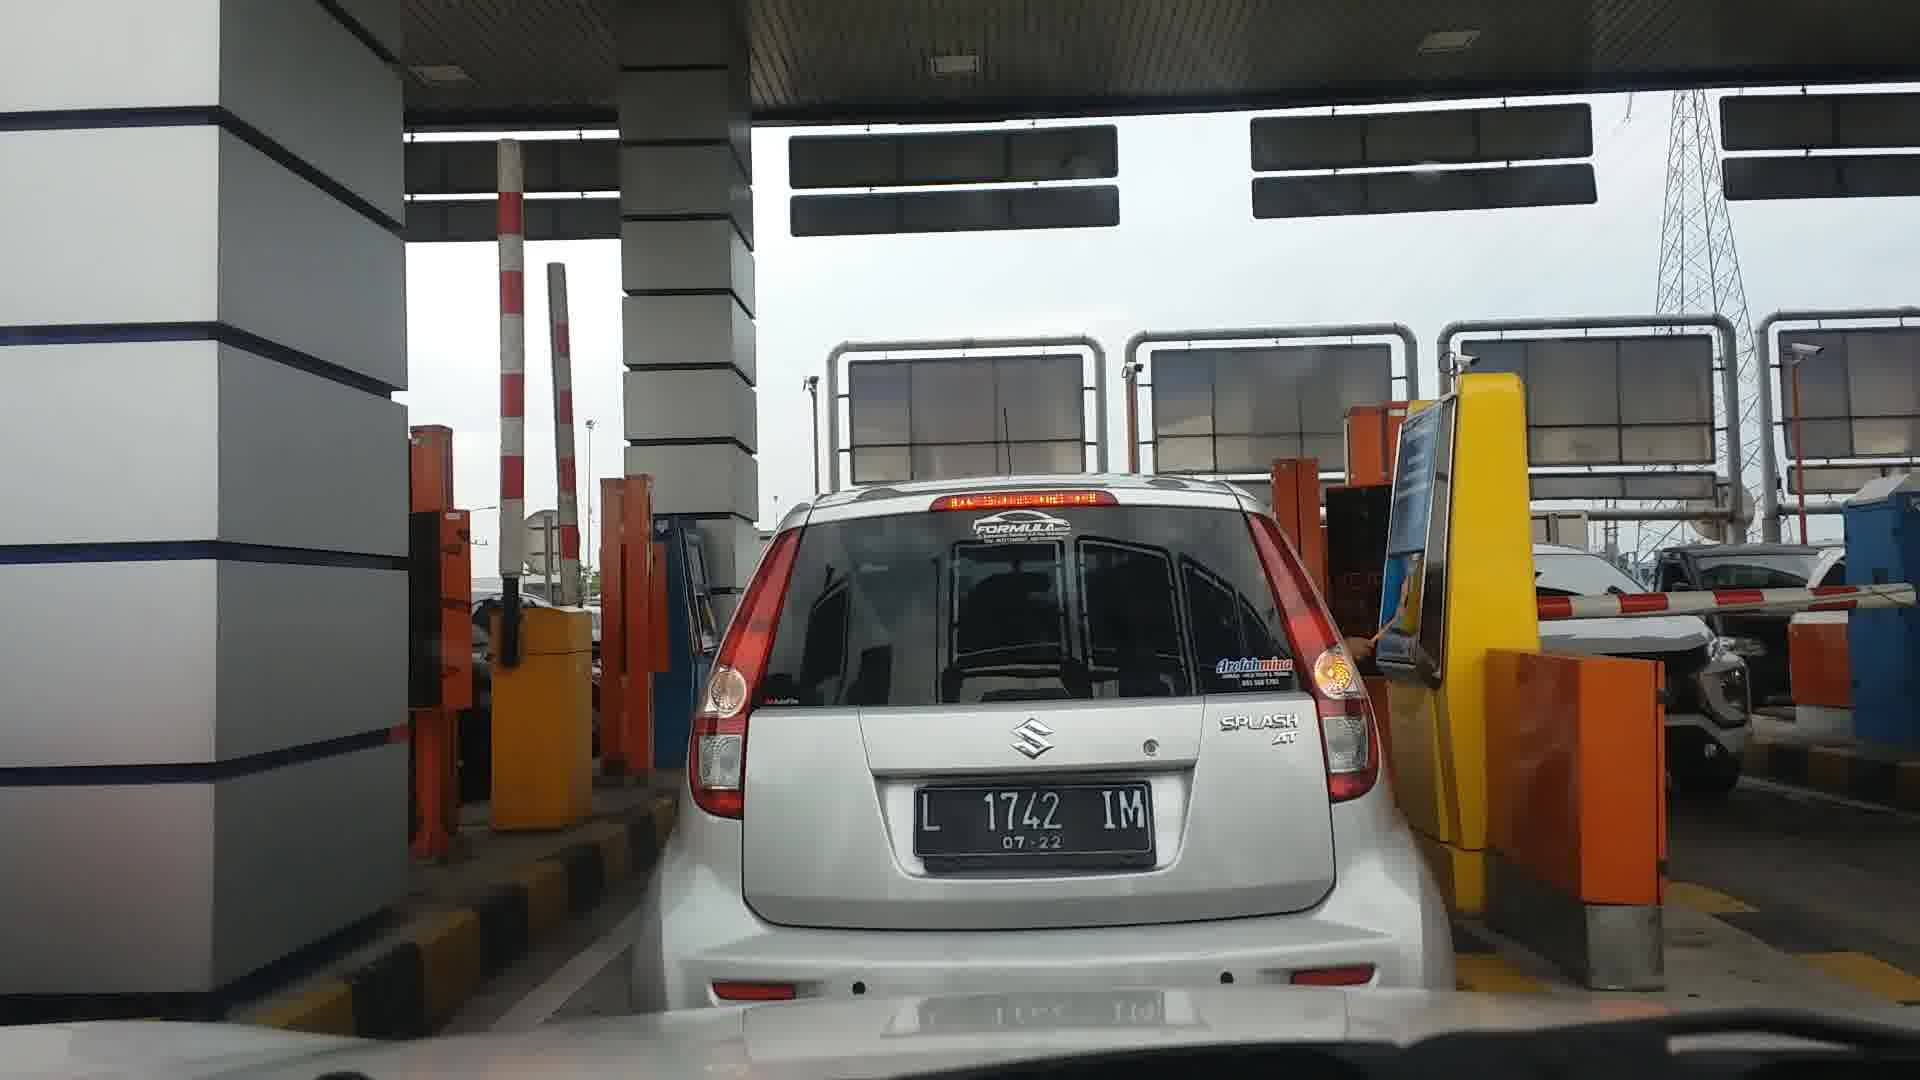plate_positive: (913, 783, 1160, 869)
